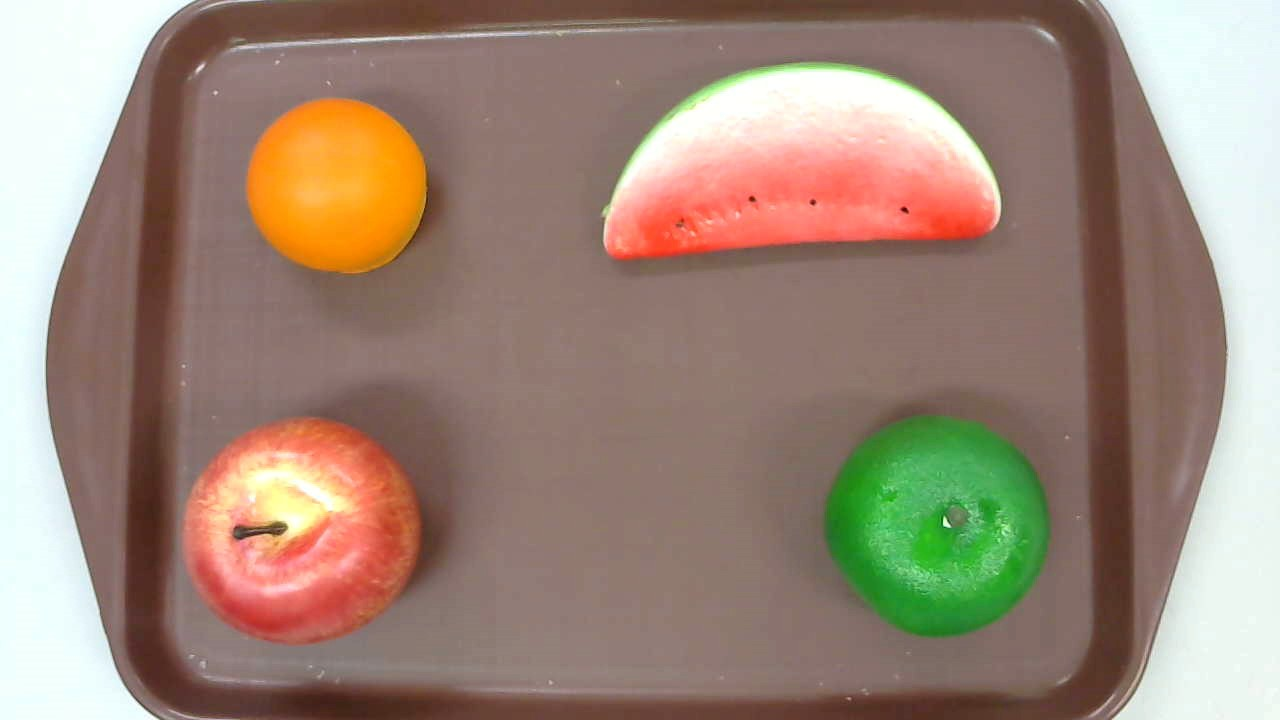bun: (245, 97, 427, 276)
green orange: (823, 414, 1049, 635)
red apple: (180, 414, 421, 646)
water melon: (598, 61, 1003, 259)
